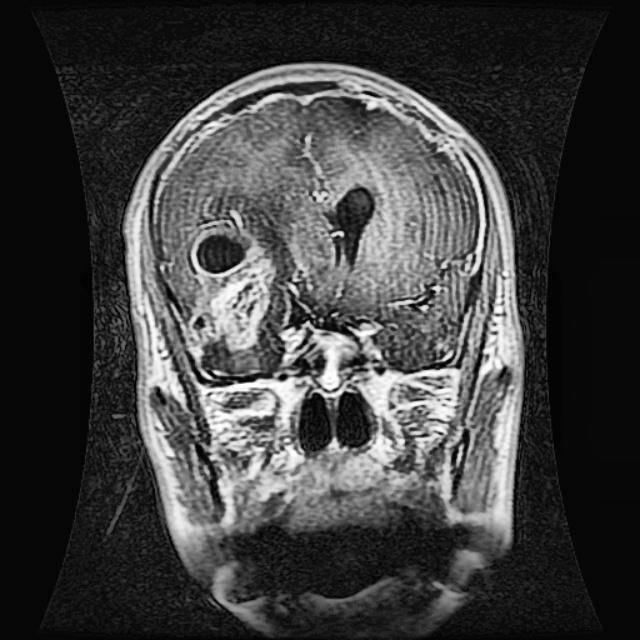Glioma: (184, 217, 275, 367)
